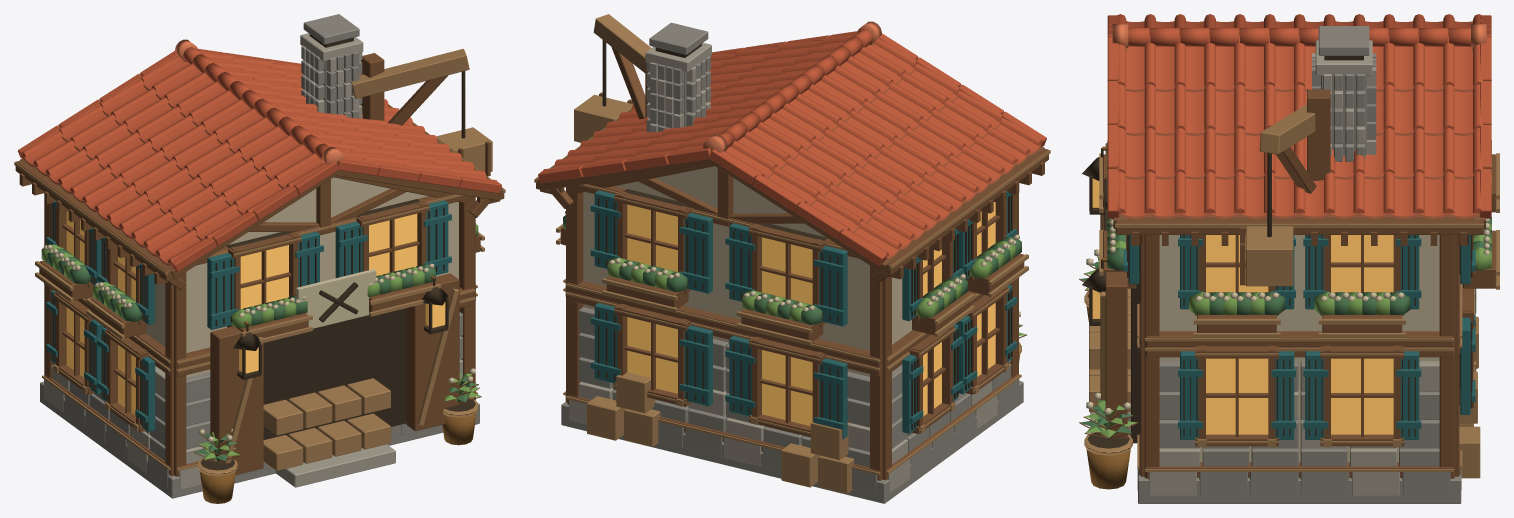
3 renders of one model, left to right at view 1: azimuth 30°, elevation 25°; view 2: azimuth 150°, elevation 25°; view 3: azimuth 270°, elevation 25°, orthographic. The views are drawn at different scales.
Visible parts, largest first — view 1: alpine_builders_guild_geometry, alpine_builders_guild_geometry ceramic, alpine_pendulum_geometry; view 2: alpine_builders_guild_geometry, alpine_builders_guild_geometry ceramic, alpine_pendulum_geometry; view 3: alpine_builders_guild_geometry, alpine_builders_guild_geometry ceramic, alpine_pendulum_geometry.
Part boxes in pixels (x1,y1,x2,y2): alpine_builders_guild_geometry: (14, 14, 505, 503); alpine_builders_guild_geometry ceramic: (18, 39, 501, 271); alpine_pendulum_geometry: (436, 71, 492, 176); alpine_builders_guild_geometry: (534, 14, 1050, 503); alpine_builders_guild_geometry ceramic: (538, 21, 1046, 265); alpine_pendulum_geometry: (574, 40, 632, 142); alpine_builders_guild_geometry: (1079, 22, 1499, 503); alpine_builders_guild_geometry ceramic: (1107, 14, 1491, 218); alpine_pendulum_geometry: (1240, 153, 1293, 286).
Bounding box in the file's own units: 1.04 × 0.8923 × 0.7916.
